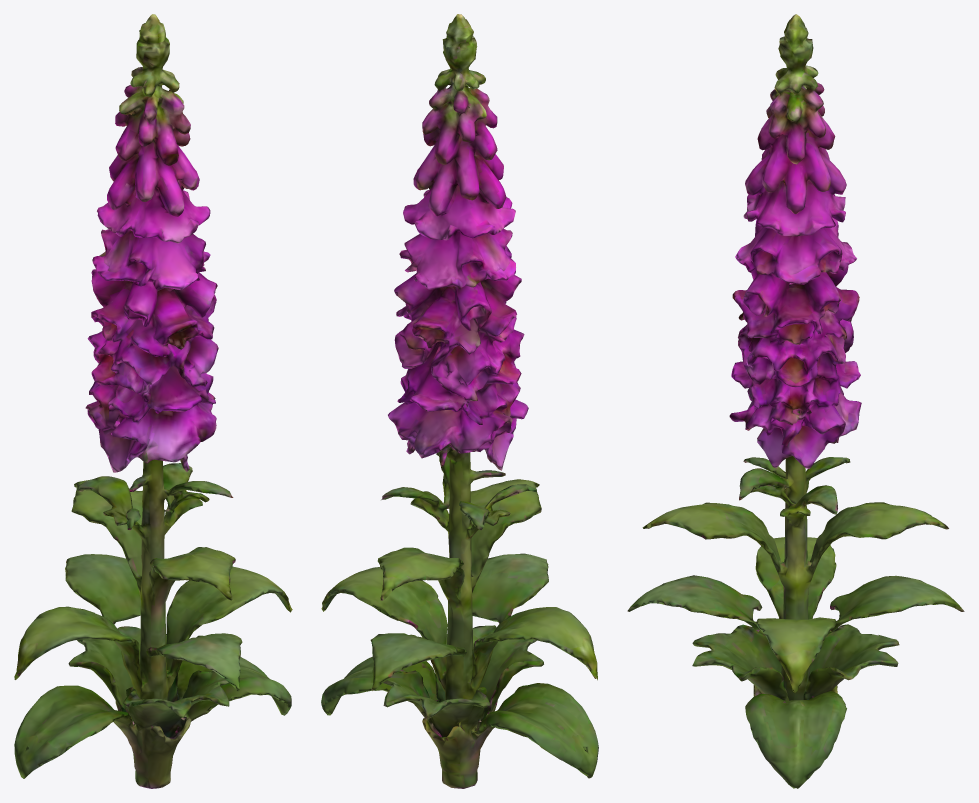
The picture shows the model from 3 angles, left to right: view 1: azimuth 30°, elevation 25°; view 2: azimuth 150°, elevation 25°; view 3: azimuth 270°, elevation 25°; orthographic projection. The views are drawn at different scales.
Bounding box in the file's own units: 0.726 × 1.93 × 0.7877.
Materials: 1 (1 with a texture image).
